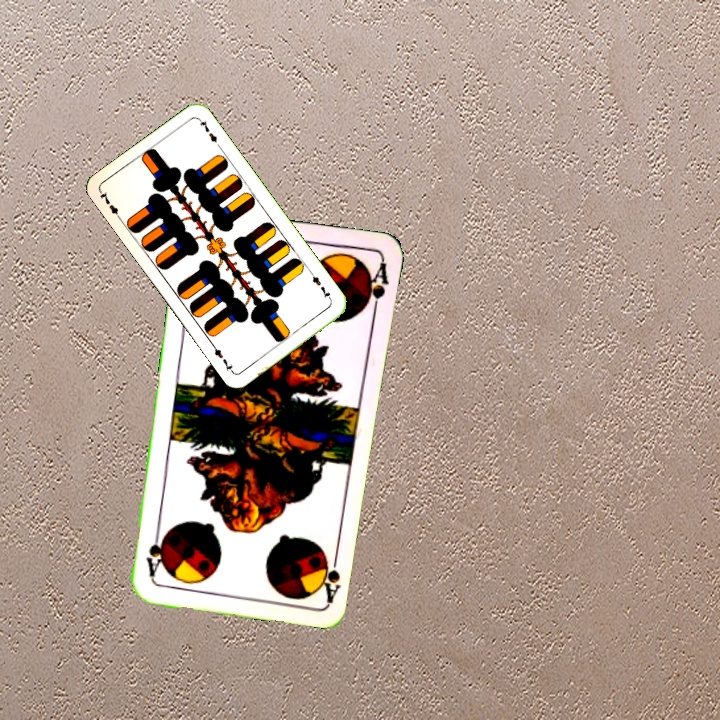E7: (96, 187, 125, 223), (306, 268, 334, 303)
SA: (322, 544, 343, 603)
